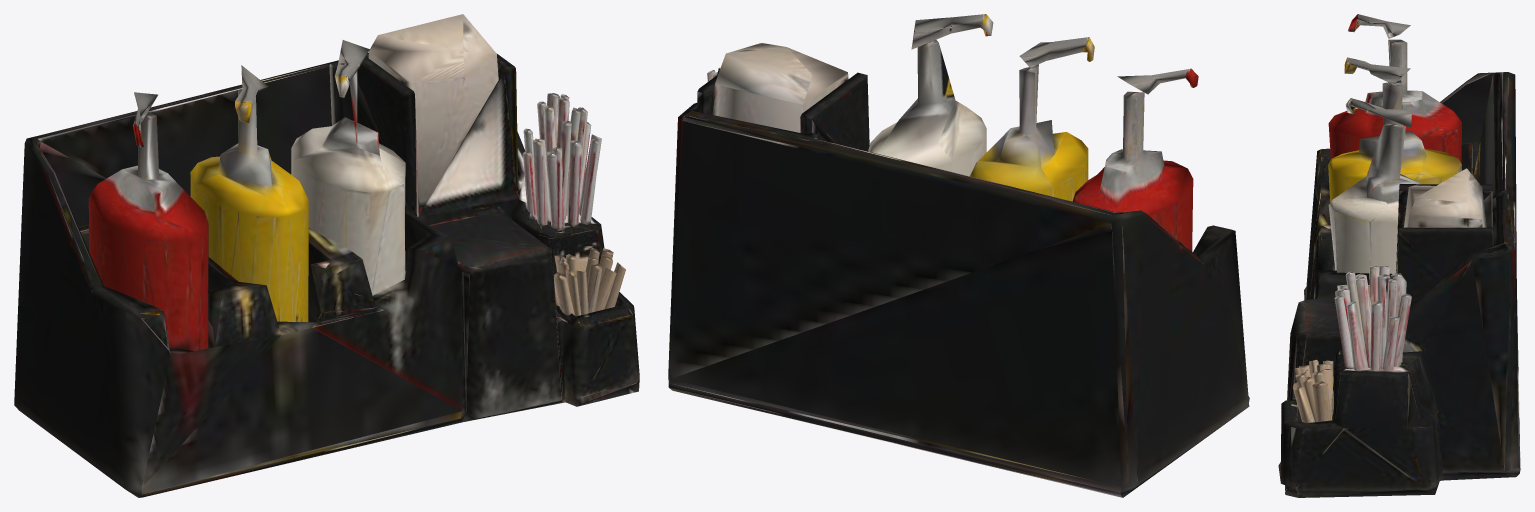
File: p7-condiment-station-t25.glb
3 views of the same model, side by side, from view 1: azimuth 30°, elevation 25°; view 2: azimuth 150°, elevation 25°; view 3: azimuth 270°, elevation 25° (orthographic). The views are drawn at different scales.
Parts seen in each view (by area): view 1: p7-condiment-station-t25; view 2: p7-condiment-station-t25; view 3: p7-condiment-station-t25.
Part boxes in pixels (<box>): p7-condiment-station-t25: <box>14,14,639,497</box>; p7-condiment-station-t25: <box>668,14,1249,497</box>; p7-condiment-station-t25: <box>1278,14,1520,497</box>.
Size of the model in its own units: 0.6 by 0.4 by 0.298.
1 material, 1 textured.
